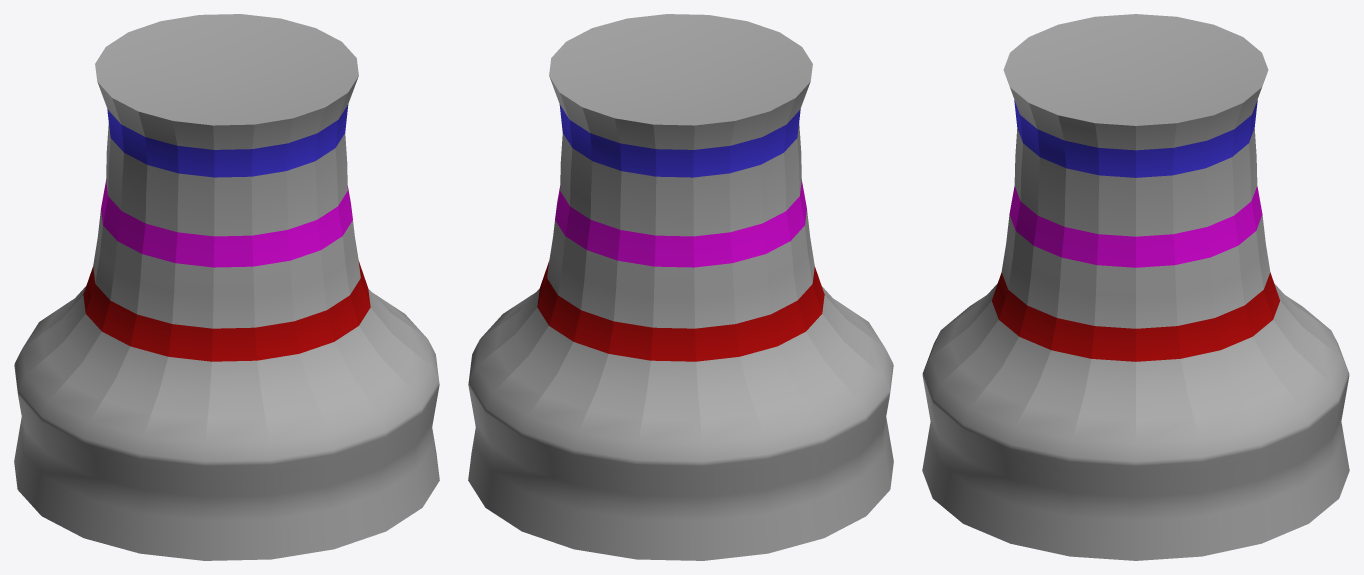
The model's file is Generator Test.fbx.
3 renders of one model, left to right at view 1: azimuth 30°, elevation 25°; view 2: azimuth 150°, elevation 25°; view 3: azimuth 270°, elevation 25°, orthographic.
Parts seen in each view (by area): view 1: Generator; view 2: Generator; view 3: Generator.
Part boxes in pixels (<box>): Generator: <box>14,14,439,560</box>; Generator: <box>468,14,893,560</box>; Generator: <box>922,14,1349,560</box>.
Size of the model in its own units: 5.6 by 5.79 by 5.6.
